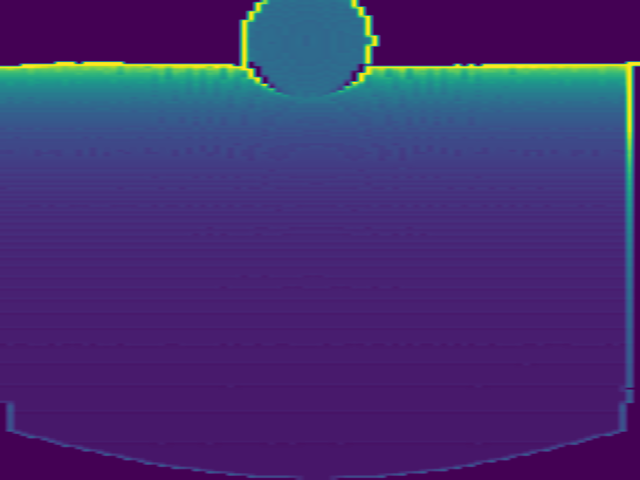sphere: (237, 1, 378, 100)
